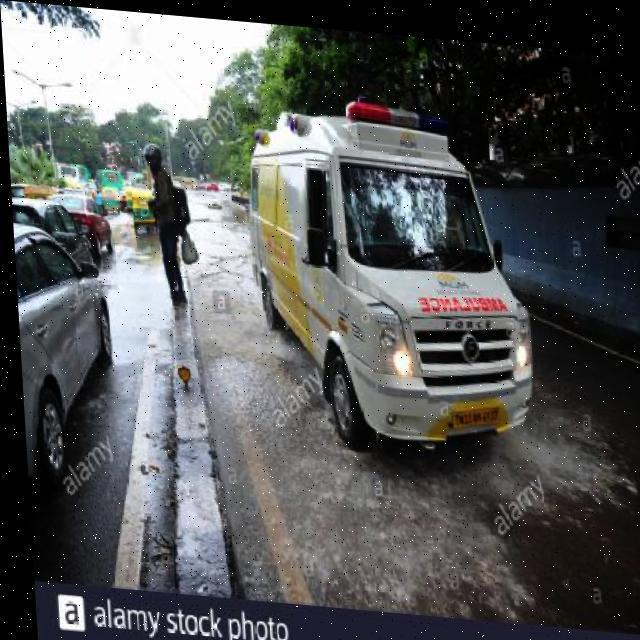Ambulance: (234, 79, 538, 461)
Bus: (87, 161, 128, 216)
car: (10, 218, 117, 501), (9, 190, 96, 274), (39, 185, 113, 259)
